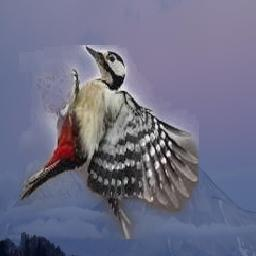Woodpecker: (19, 45, 199, 239)
